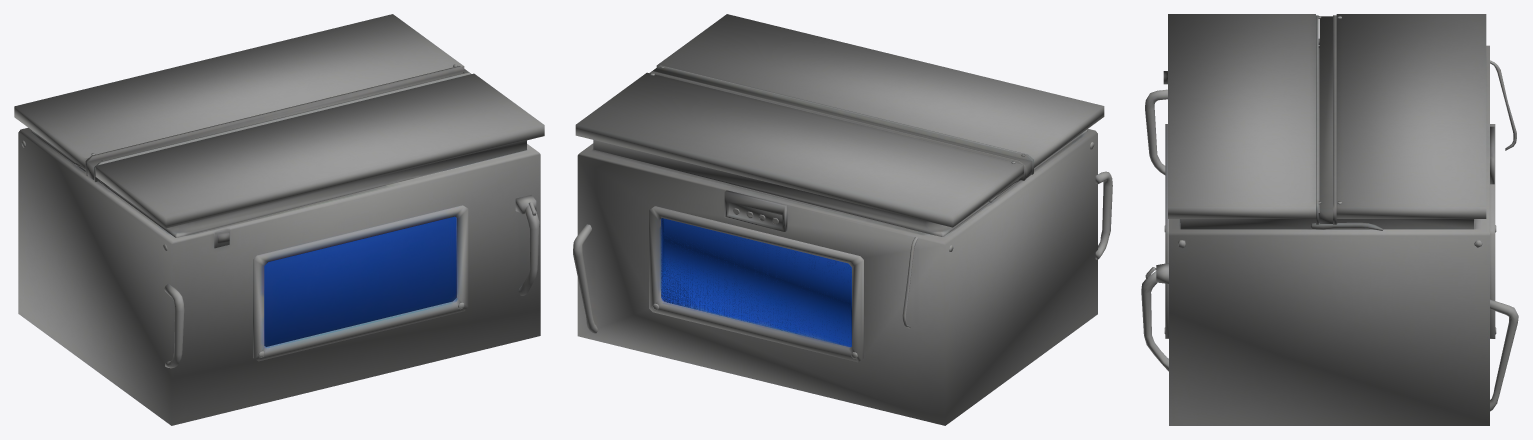
The model's file is storage_container.glb.
3 renders of one model, left to right at view 1: azimuth 30°, elevation 25°; view 2: azimuth 150°, elevation 25°; view 3: azimuth 270°, elevation 25°, orthographic. The views are drawn at different scales.
Visible parts, largest first — view 1: tripo_node_8a087561-8546-43eb-9890-29df8c4c6824; view 2: tripo_node_8a087561-8546-43eb-9890-29df8c4c6824; view 3: tripo_node_8a087561-8546-43eb-9890-29df8c4c6824.
Part boxes in pixels (<box>): tripo_node_8a087561-8546-43eb-9890-29df8c4c6824: <box>14,14,544,425</box>; tripo_node_8a087561-8546-43eb-9890-29df8c4c6824: <box>573,14,1112,425</box>; tripo_node_8a087561-8546-43eb-9890-29df8c4c6824: <box>1141,14,1518,425</box>.
Bounding box in the file's own units: 1.12 × 0.6 × 0.9253.
Materials: 1 (1 with a texture image).
